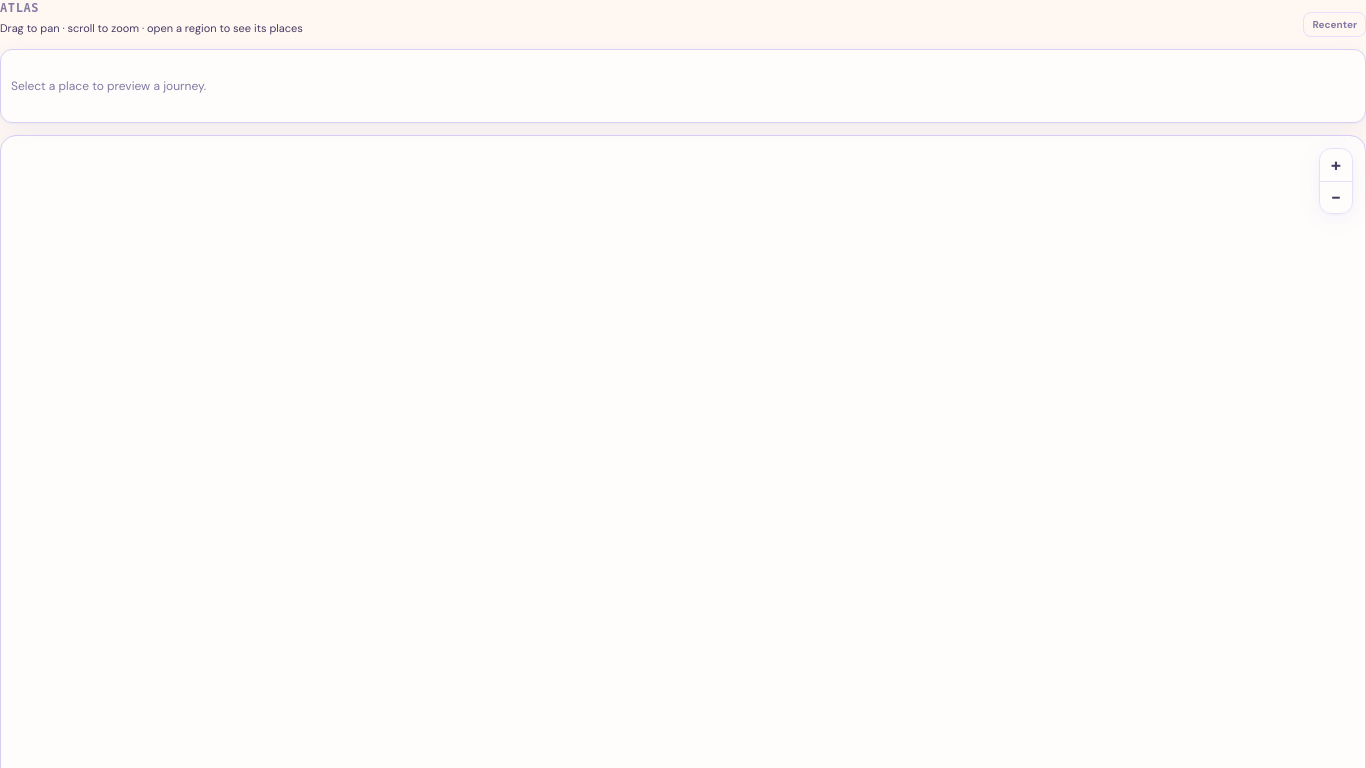
Test: LocationMap › keeps the place under the pointer fixed while wheel zooming
Press the mouse on the drawing named "Interactive world map" at {"x": 251, "y": 386}, box [1,136,501,636]
(page scrolled)
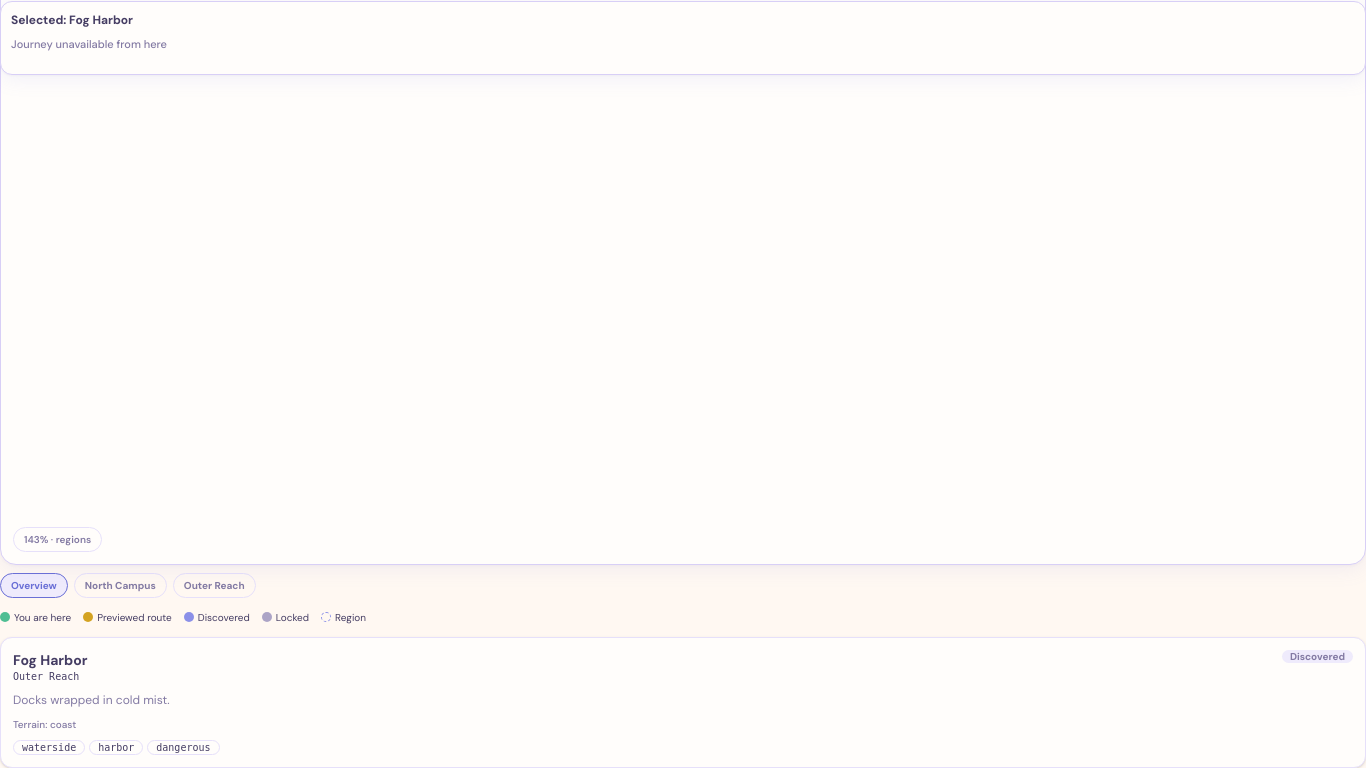
Check: the text "Fog Harbor" is shown, box [13,650,88,670]
